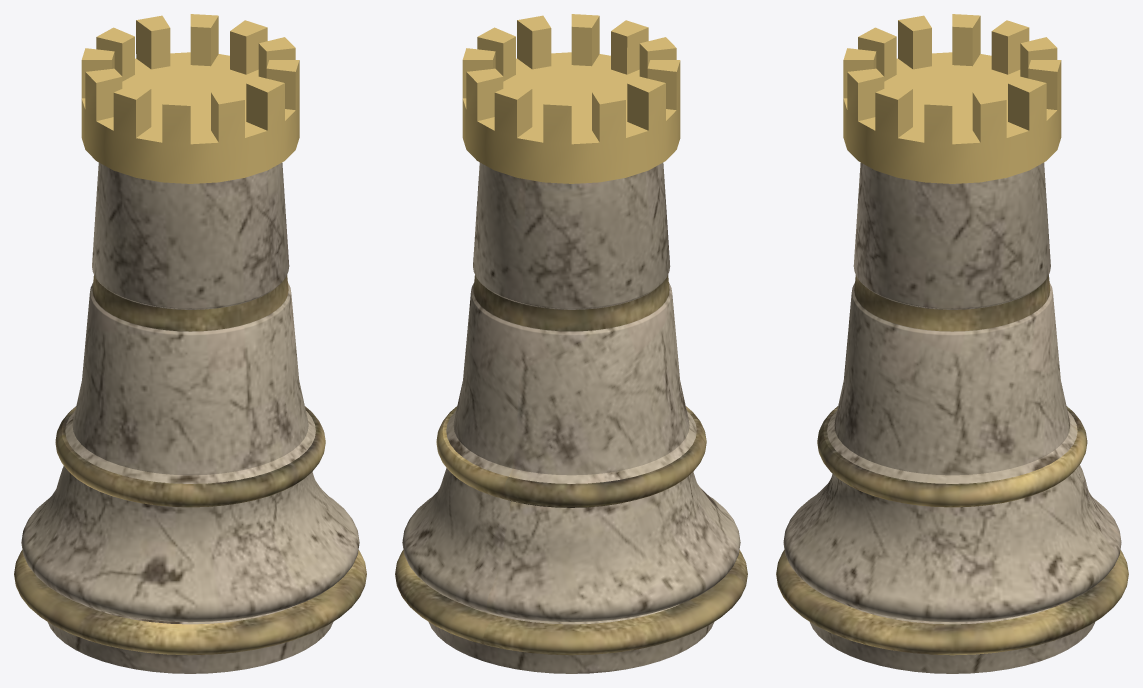
3 renders of one model, left to right at view 1: azimuth 30°, elevation 25°; view 2: azimuth 150°, elevation 25°; view 3: azimuth 270°, elevation 25°, orthographic.
Parts seen in each view (by area): view 1: x; view 2: x; view 3: x.
Boxes of the visible parts, bbox=[...] form: x: bbox=[14, 14, 366, 673]; x: bbox=[395, 14, 747, 673]; x: bbox=[776, 14, 1128, 673].
Size of the model in its own units: 0.5195 by 0.9 by 0.5192.
2 materials, 1 textured.
